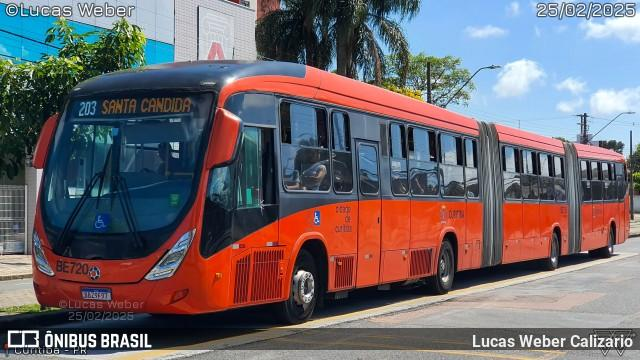SANTA CANDIDA: (98, 95, 198, 117)
